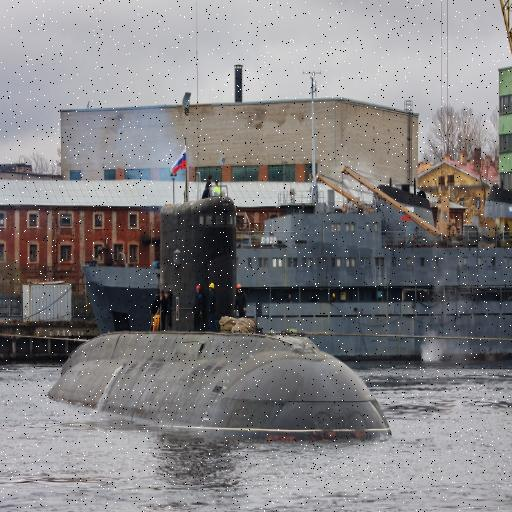submarine: (47, 202, 395, 443)
